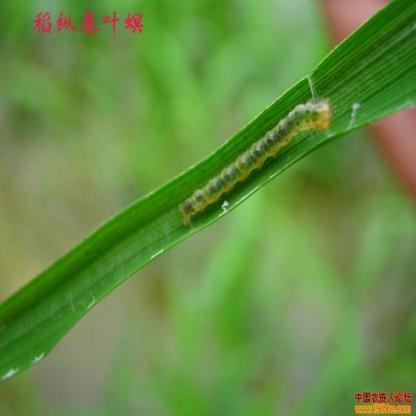leaf-folder: (172, 82, 379, 244)
